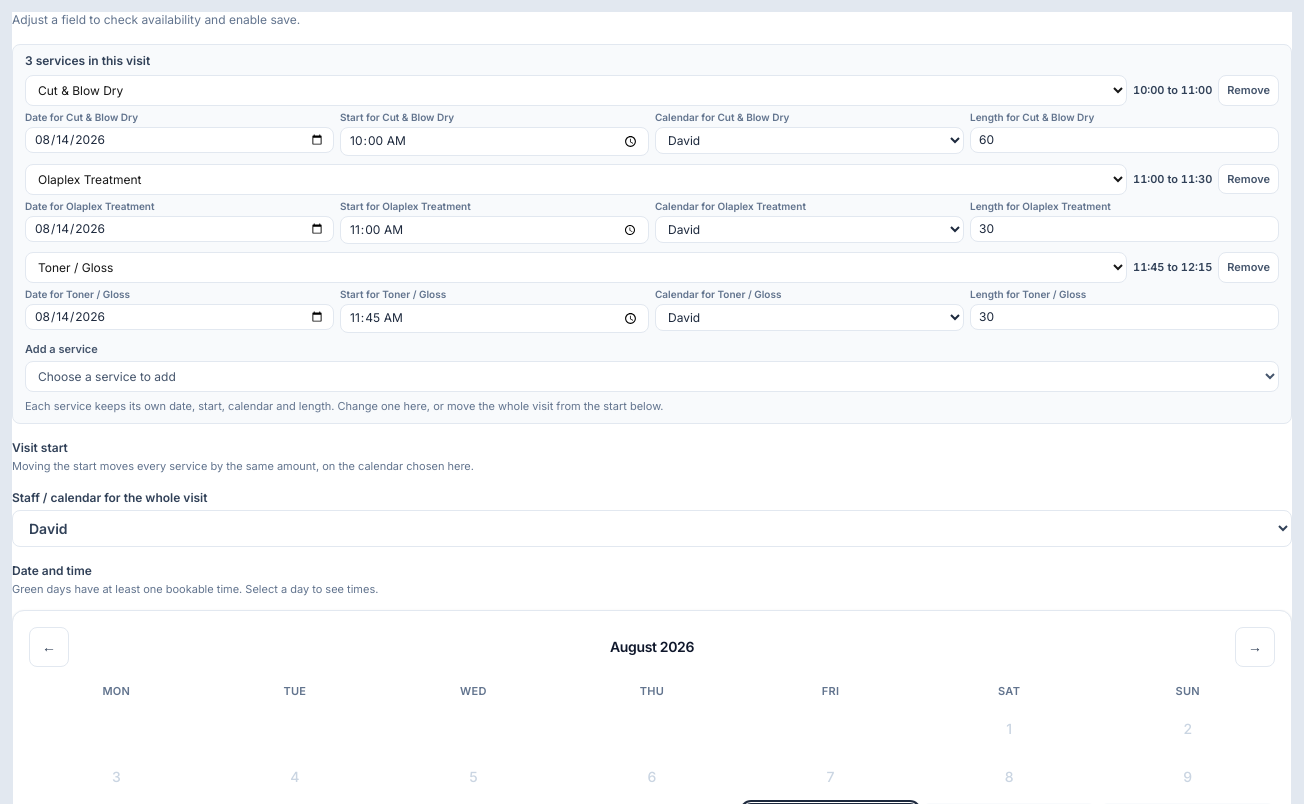
Test case: StaffAppointmentModifyForm on a multi-service visit › changing which services the visit has › a swap goes to the services endpoint, carrying the whole list, and locks the editors
Select "Beard Trim" in the dropdown named "Service 2" at (576, 179), box [25,164,1127,195]
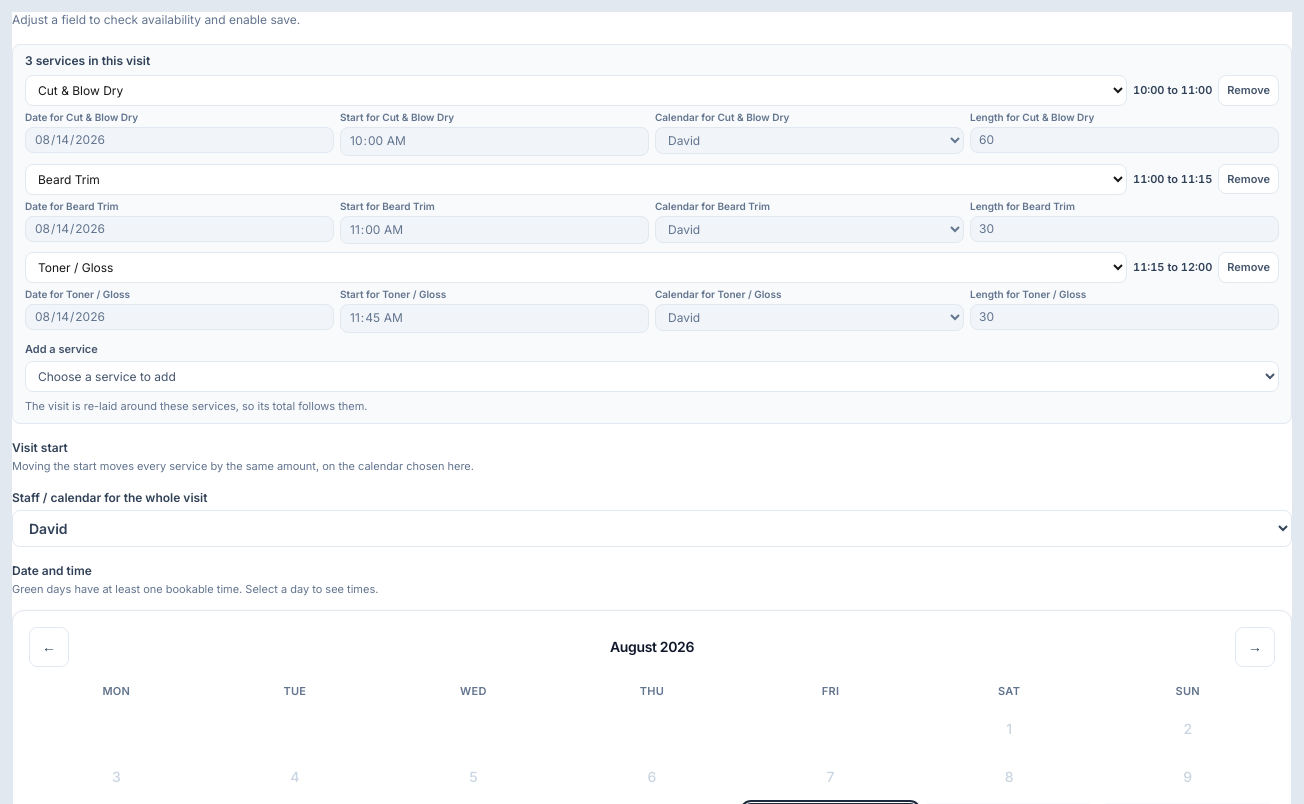
Expected: the time field labelled "Start for Cut & Blow Dry" is disabled, [340,127,649,156]
